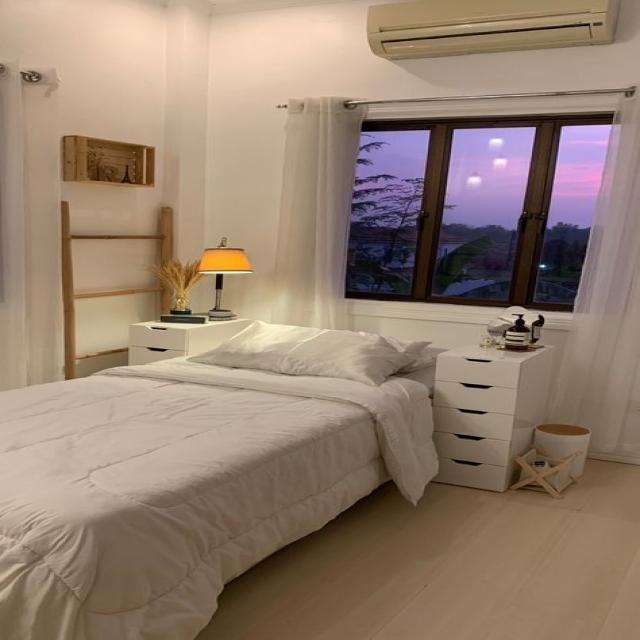AC: (365, 0, 623, 60)
